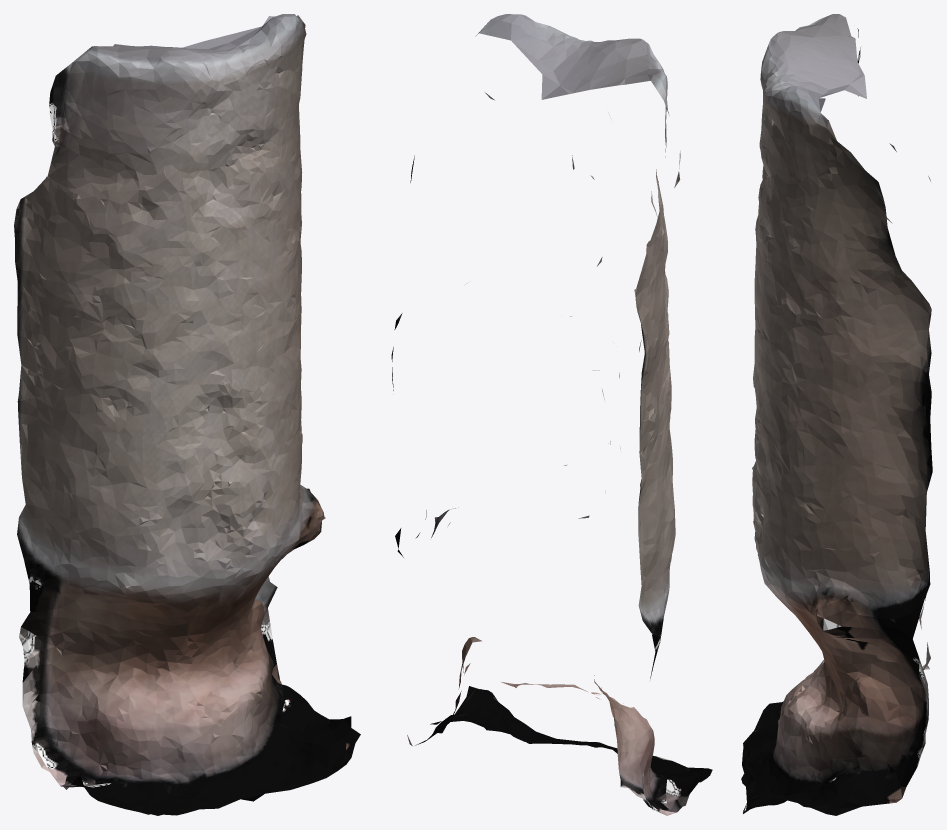
3 views of the same model, side by side, from view 1: azimuth 30°, elevation 25°; view 2: azimuth 150°, elevation 25°; view 3: azimuth 270°, elevation 25° (orthographic). The views are drawn at different scales.
Visible parts, largest first — view 1: Node; view 2: Node; view 3: Node.
Part boxes in pixels (x1=…): Node: x1=14, y1=14, x2=360, y2=815; Node: x1=391, y1=14, x2=712, y2=815; Node: x1=741, y1=14, x2=932, y2=815.
Size of the model in its own units: 0.7177 by 1.97 by 0.4722.
Materials: 1 (1 with a texture image).
